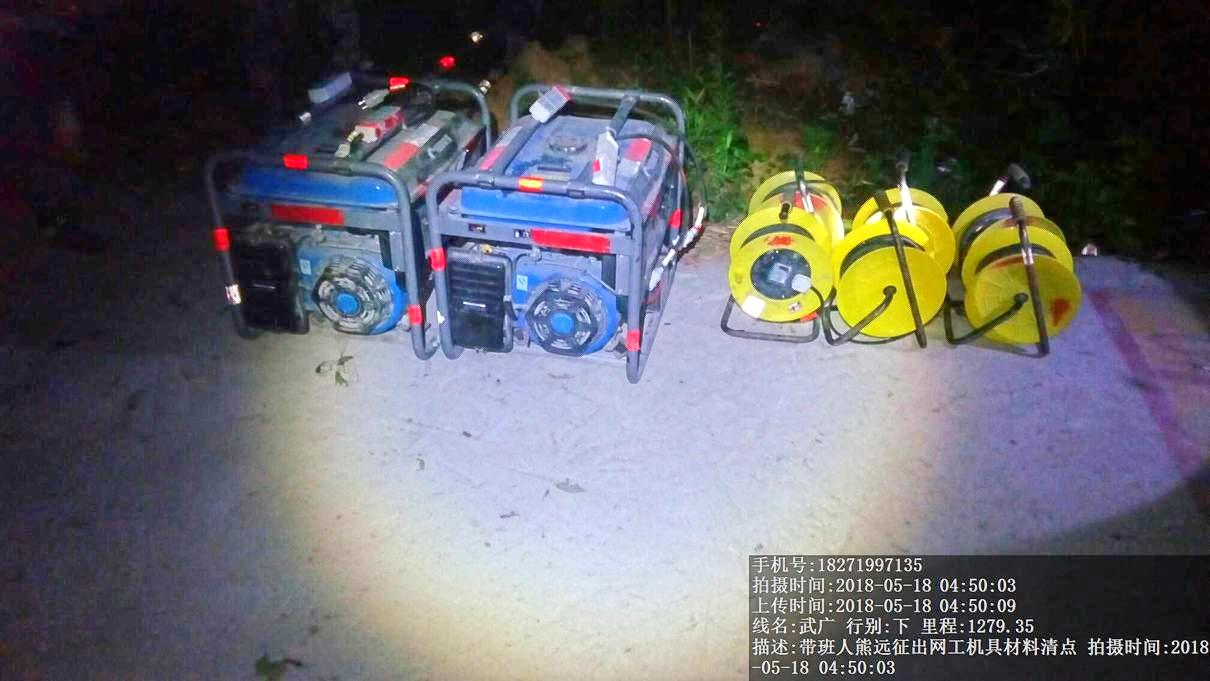DJ: (446, 89, 704, 370), (200, 86, 445, 353)
DX: (964, 218, 1093, 356), (828, 207, 941, 352), (715, 208, 832, 340)
